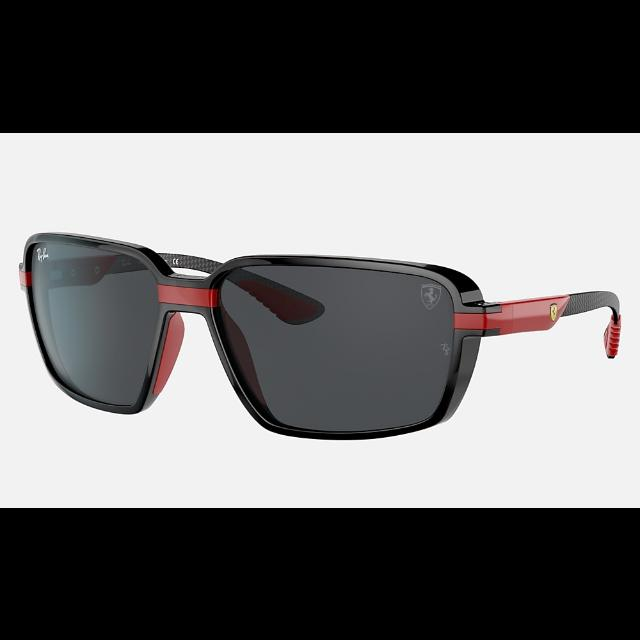Sunglasses: (18, 230, 620, 442)
